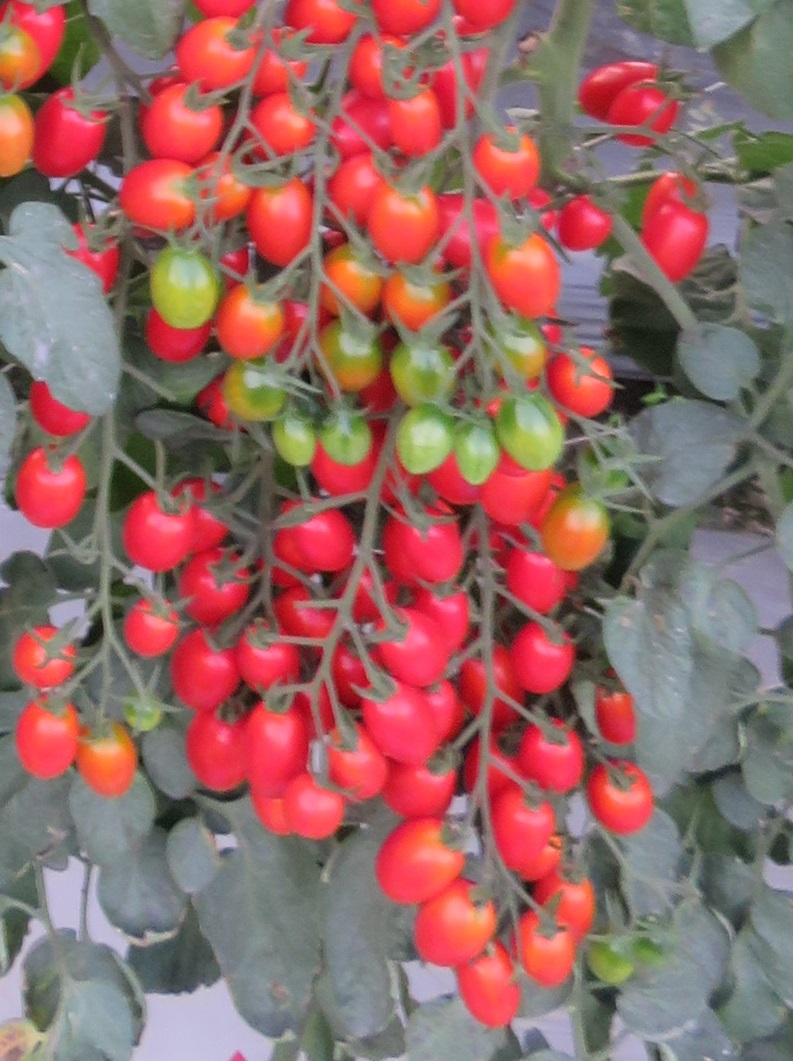green: (490, 394, 567, 474), (152, 246, 215, 330), (310, 326, 380, 392), (398, 402, 451, 476), (221, 366, 287, 424), (453, 407, 497, 482), (390, 350, 451, 402), (320, 400, 370, 462), (270, 413, 317, 466)
orange: (137, 82, 228, 161), (167, 17, 255, 87), (491, 231, 557, 324), (217, 281, 291, 362), (544, 490, 610, 572), (118, 169, 195, 236), (476, 131, 544, 199), (536, 871, 599, 940), (375, 193, 434, 264), (512, 924, 579, 985), (82, 729, 139, 796), (589, 692, 646, 748), (385, 279, 447, 330), (1, 112, 33, 187), (1, 37, 36, 90)
red: (374, 819, 468, 907), (409, 883, 497, 972), (387, 504, 474, 583), (35, 90, 112, 176), (121, 490, 195, 570), (648, 191, 706, 291), (12, 455, 86, 532), (14, 694, 80, 780), (486, 798, 555, 880), (249, 176, 314, 263), (184, 720, 248, 804), (239, 707, 313, 779), (173, 627, 233, 713), (518, 720, 585, 795), (376, 614, 448, 682), (579, 769, 655, 833), (507, 544, 573, 617), (182, 554, 253, 621), (329, 153, 394, 226), (287, 505, 364, 566), (511, 627, 579, 696), (365, 693, 434, 760), (608, 82, 678, 148), (385, 760, 461, 819), (547, 350, 611, 418), (61, 221, 119, 296), (463, 957, 524, 1028), (578, 59, 660, 111), (286, 779, 353, 840), (118, 599, 181, 663), (174, 477, 230, 549), (387, 86, 441, 160), (26, 381, 92, 440), (418, 581, 472, 652), (143, 311, 215, 364), (12, 626, 75, 686), (249, 92, 306, 158), (283, 1, 363, 42), (239, 627, 295, 685), (560, 196, 612, 253), (455, 1, 517, 29), (252, 793, 285, 835)
